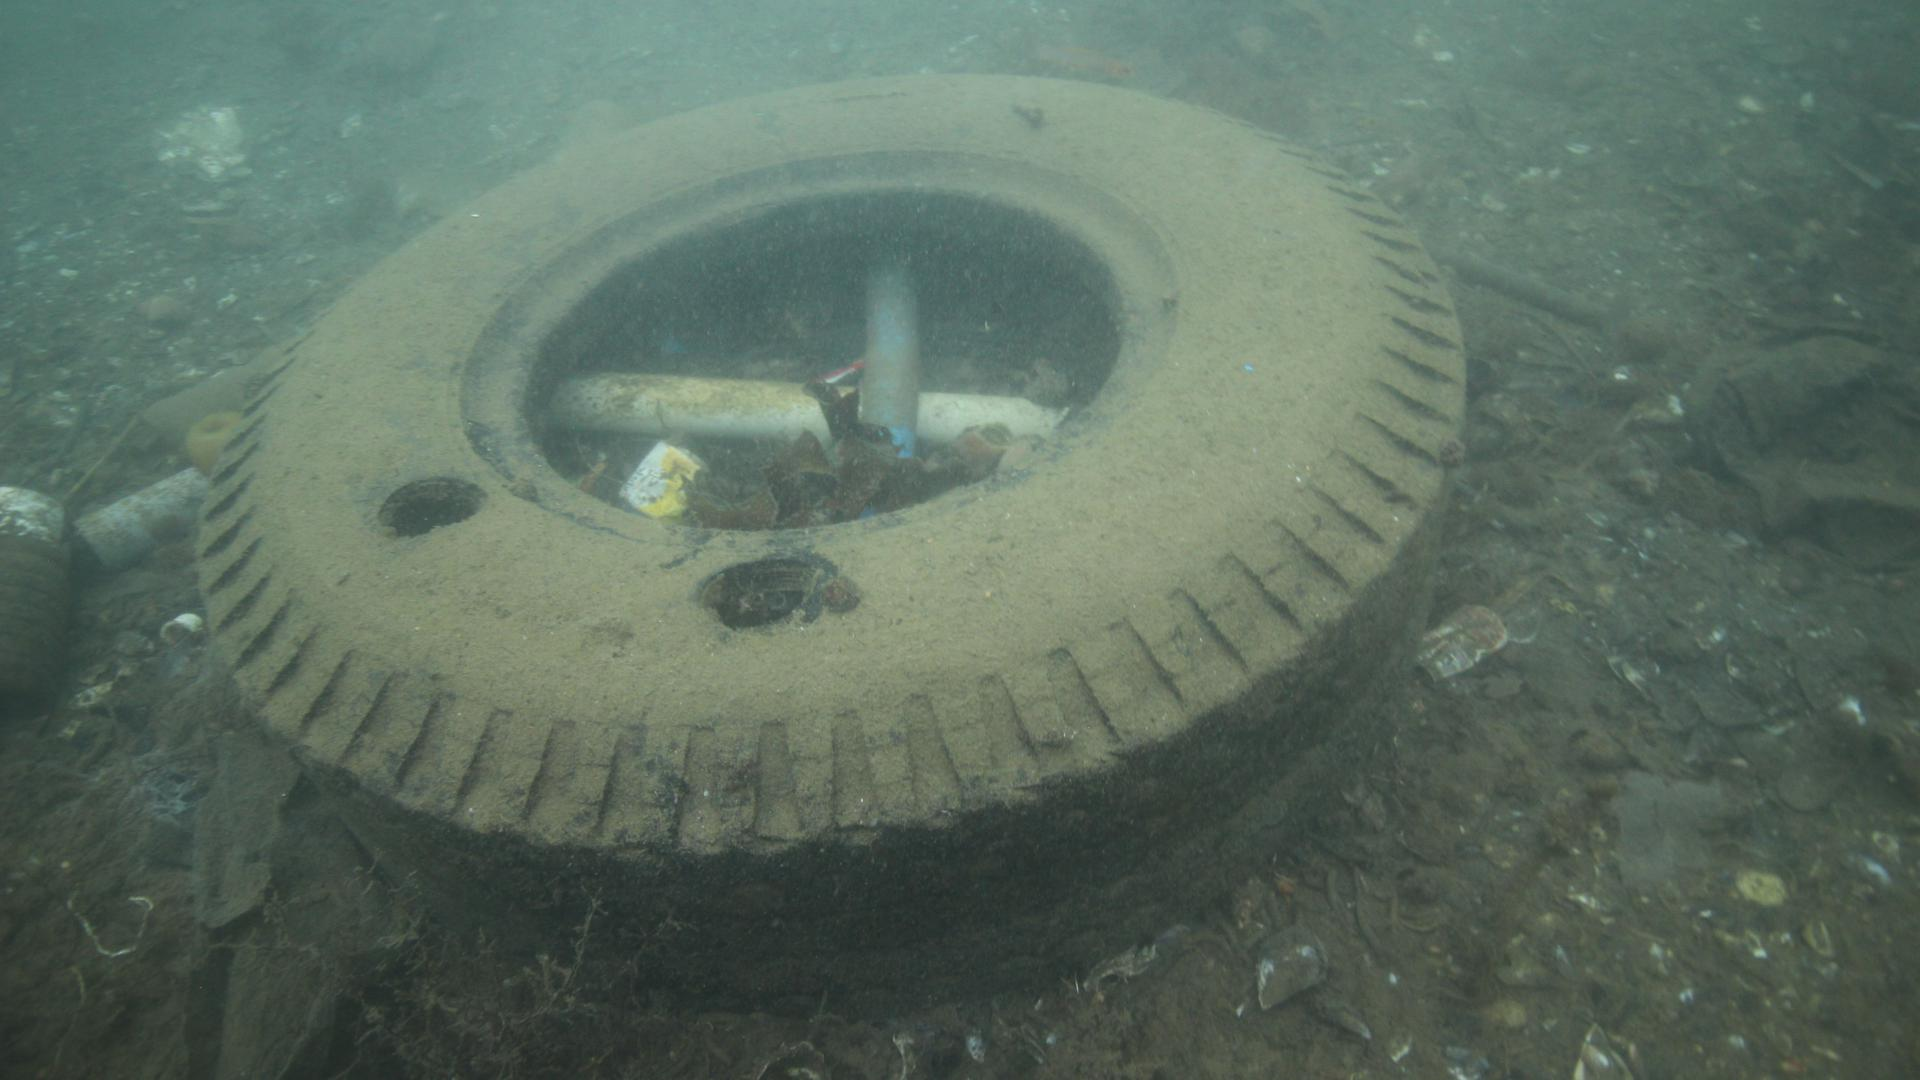tire: (196, 73, 1466, 1019)
